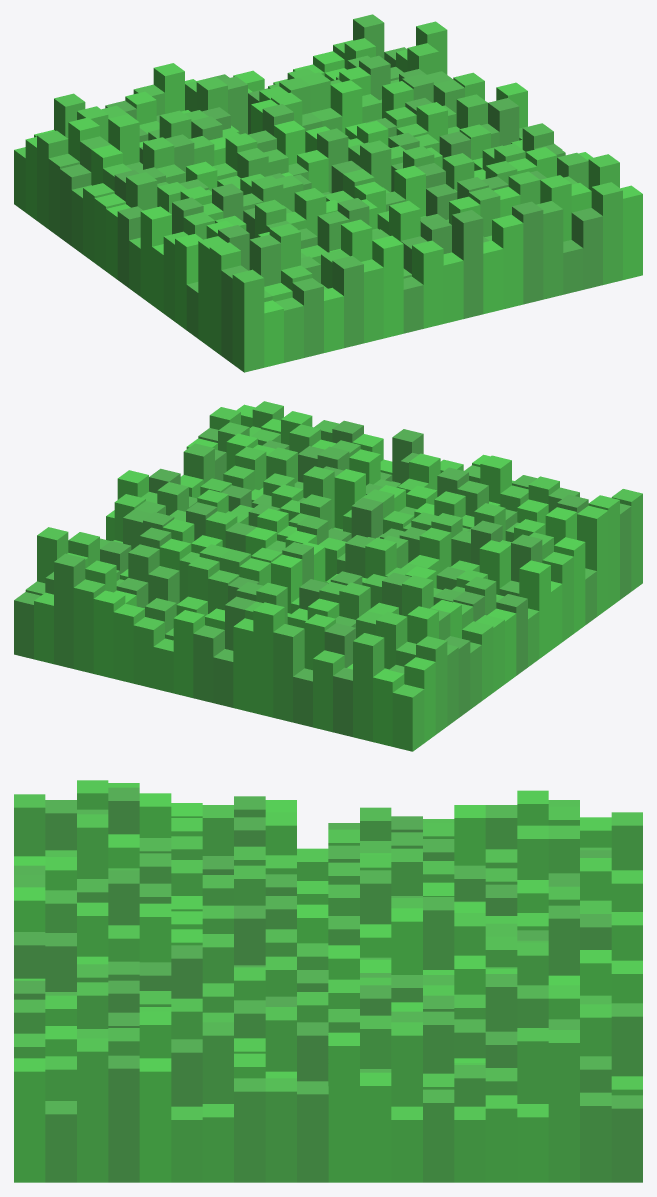
Rendered from uploads_files_4861455_grass.fbx.
The picture shows the model from 3 angles, top to bottom: view 1: azimuth 30°, elevation 25°; view 2: azimuth 150°, elevation 25°; view 3: azimuth 270°, elevation 25°; orthographic projection. The views are drawn at different scales.
Visible parts, largest first — view 1: Shape_IndexedFaceSet.028, Shape_IndexedFaceSet.006, Shape_IndexedFaceSet.017, Shape_IndexedFaceSet.003, Shape_IndexedFaceSet.001, Shape_IndexedFaceSet.012, Shape_IndexedFaceSet.015, Shape_IndexedFaceSet.019, Shape_IndexedFaceSet.007, Shape_IndexedFaceSet.020, Shape_IndexedFaceSet.013, Shape_IndexedFaceSet.009 (+19 smaller); view 2: Shape_IndexedFaceSet.028, Shape_IndexedFaceSet.005, Shape_IndexedFaceSet.001, Shape_IndexedFaceSet.017, Shape_IndexedFaceSet.011, Shape_IndexedFaceSet.029, Shape_IndexedFaceSet.016, Shape_IndexedFaceSet.006, Shape_IndexedFaceSet.008, Shape_IndexedFaceSet.009, Shape_IndexedFaceSet.012, Shape_IndexedFaceSet.023 (+19 smaller); view 3: Shape_IndexedFaceSet.017, Shape_IndexedFaceSet.007, Shape_IndexedFaceSet.028, Shape_IndexedFaceSet.018, Shape_IndexedFaceSet.021, Shape_IndexedFaceSet.016, Shape_IndexedFaceSet.001, Shape_IndexedFaceSet.020, Shape_IndexedFaceSet.006, Shape_IndexedFaceSet.009, Shape_IndexedFaceSet.011, Shape_IndexedFaceSet.012 (+19 smaller).
Part boxes in pixels (box(x1,y1,x2,y2)): Shape_IndexedFaceSet.028: box(37, 72, 622, 372); Shape_IndexedFaceSet.006: box(105, 88, 602, 304); Shape_IndexedFaceSet.017: box(25, 67, 556, 309); Shape_IndexedFaceSet.003: box(139, 68, 403, 367); Shape_IndexedFaceSet.001: box(125, 63, 536, 323); Shape_IndexedFaceSet.012: box(209, 70, 642, 352); Shape_IndexedFaceSet.015: box(91, 80, 520, 314); Shape_IndexedFaceSet.019: box(209, 49, 447, 355); Shape_IndexedFaceSet.007: box(137, 47, 499, 357); Shape_IndexedFaceSet.020: box(139, 98, 588, 318); Shape_IndexedFaceSet.013: box(189, 77, 577, 362); Shape_IndexedFaceSet.009: box(126, 74, 527, 333); Shape_IndexedFaceSet.028: box(199, 401, 642, 741); Shape_IndexedFaceSet.005: box(93, 438, 576, 746); Shape_IndexedFaceSet.001: box(180, 444, 545, 717); Shape_IndexedFaceSet.017: box(106, 433, 511, 742); Shape_IndexedFaceSet.011: box(113, 407, 493, 700); Shape_IndexedFaceSet.029: box(249, 426, 559, 751); Shape_IndexedFaceSet.016: box(25, 481, 596, 668); Shape_IndexedFaceSet.006: box(149, 420, 474, 736); Shape_IndexedFaceSet.008: box(100, 449, 527, 727); Shape_IndexedFaceSet.009: box(116, 446, 542, 707); Shape_IndexedFaceSet.012: box(116, 404, 548, 697); Shape_IndexedFaceSet.023: box(120, 411, 608, 692); Shape_IndexedFaceSet.017: box(14, 790, 611, 1182); Shape_IndexedFaceSet.007: box(14, 832, 611, 1182); Shape_IndexedFaceSet.028: box(14, 794, 642, 1058); Shape_IndexedFaceSet.018: box(202, 825, 611, 1182); Shape_IndexedFaceSet.021: box(171, 823, 579, 1182); Shape_IndexedFaceSet.016: box(45, 879, 642, 1182); Shape_IndexedFaceSet.001: box(77, 818, 642, 1182); Shape_IndexedFaceSet.020: box(14, 787, 579, 1182); Shape_IndexedFaceSet.006: box(14, 850, 611, 1081); Shape_IndexedFaceSet.009: box(108, 796, 579, 1182); Shape_IndexedFaceSet.011: box(77, 855, 454, 1182); Shape_IndexedFaceSet.012: box(14, 834, 642, 1182).
Bounding box in the file's own units: 20000 × 5000 × 20000.
